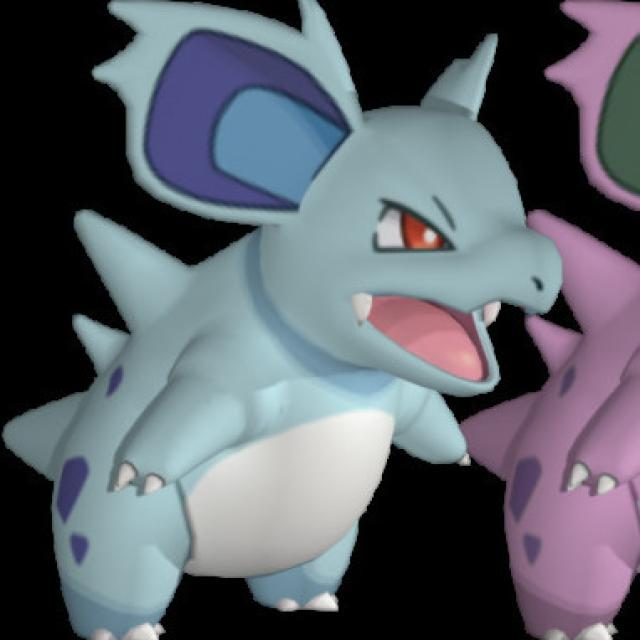Nidorina: (40, 1, 509, 640)
